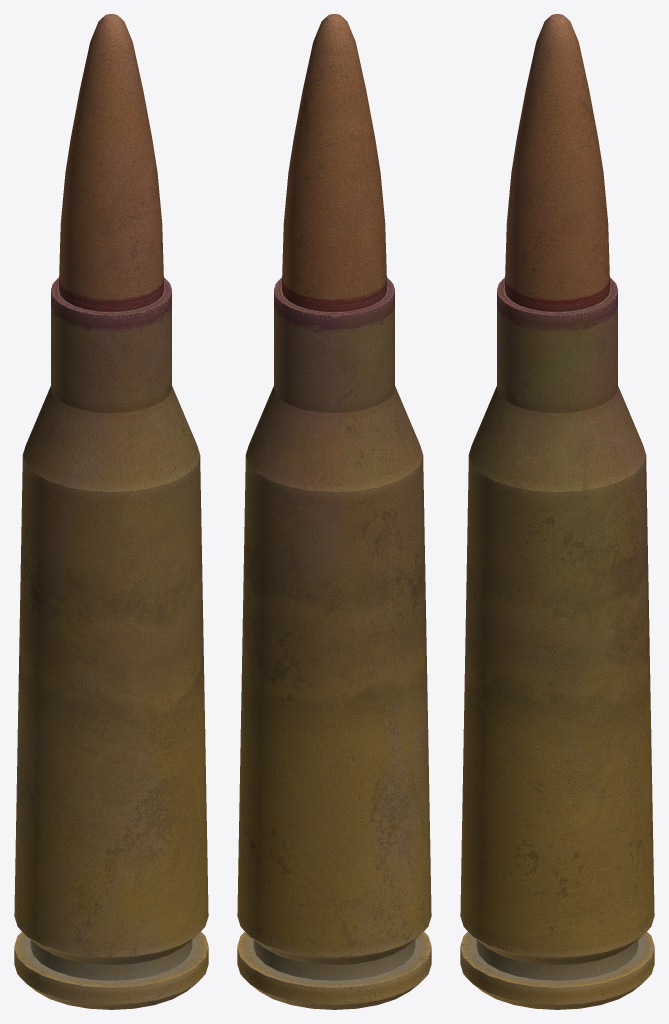
The picture shows the model from 3 angles, left to right: view 1: azimuth 30°, elevation 25°; view 2: azimuth 150°, elevation 25°; view 3: azimuth 270°, elevation 25°; orthographic projection.
Visible parts, largest first — view 1: 5_45_39mm_shell; view 2: 5_45_39mm_shell; view 3: 5_45_39mm_shell.
Part boxes in pixels (x1=…): 5_45_39mm_shell: x1=14, y1=14, x2=208, y2=1009; 5_45_39mm_shell: x1=237, y1=14, x2=431, y2=1009; 5_45_39mm_shell: x1=460, y1=14, x2=654, y2=1009.
Bounding box in the file's own units: 0.0246 × 0.1339 × 0.0246.
Materials: 1 (1 with a texture image).
